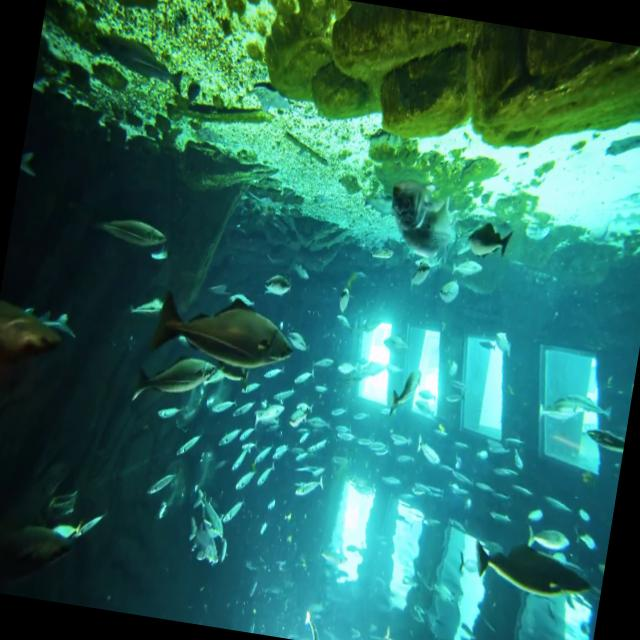fish: (130, 272, 302, 376), (451, 520, 608, 612), (366, 186, 474, 279), (0, 499, 93, 581), (74, 202, 181, 260), (462, 213, 521, 287), (380, 358, 437, 432), (0, 302, 54, 376), (15, 301, 77, 361), (527, 506, 586, 566), (531, 376, 587, 437), (146, 461, 190, 509), (220, 494, 250, 537)
